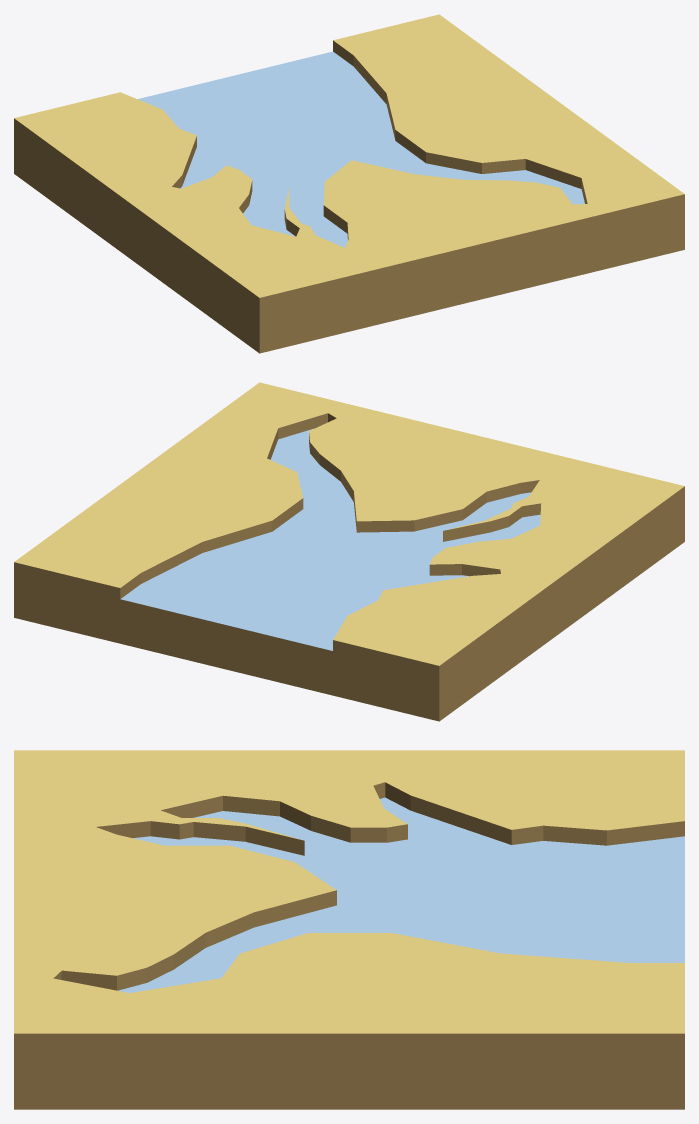
The model's file is Terrain_Tile_Sand_River_End_02.fbx.
3 renders of one model, top to bottom at view 1: azimuth 30°, elevation 25°; view 2: azimuth 150°, elevation 25°; view 3: azimuth 270°, elevation 25°, orthographic. The views are drawn at different scales.
Parts seen in each view (by area): view 1: Terrain_Tile_Sand_River_End_02; view 2: Terrain_Tile_Sand_River_End_02; view 3: Terrain_Tile_Sand_River_End_02.
Boxes of the visible parts, x1,y1,x2,y2 form: Terrain_Tile_Sand_River_End_02: (14, 14, 684, 353); Terrain_Tile_Sand_River_End_02: (14, 382, 684, 721); Terrain_Tile_Sand_River_End_02: (14, 750, 684, 1109).
Size of the model in its own units: 126 by 15.75 by 126.
